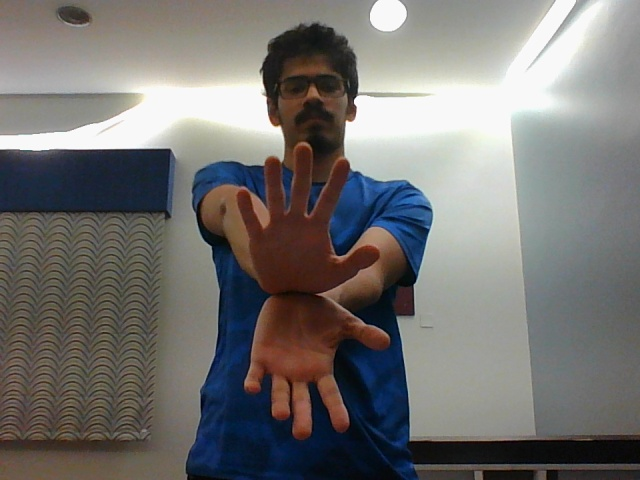blast: (235, 142, 392, 437)
